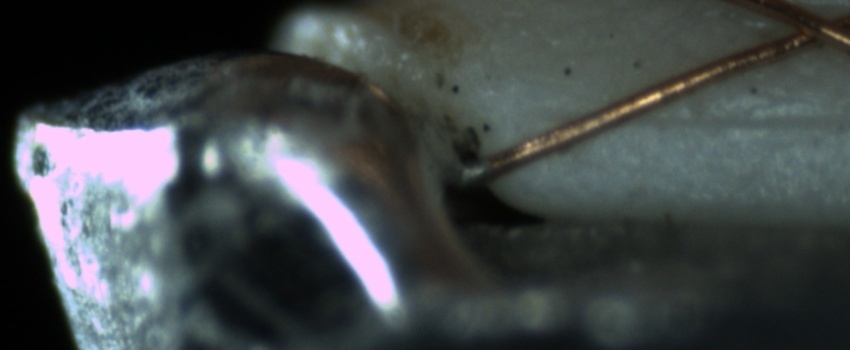CL: (766, 2, 848, 56)
DL: (539, 85, 850, 151)
TS: (454, 157, 487, 185)
